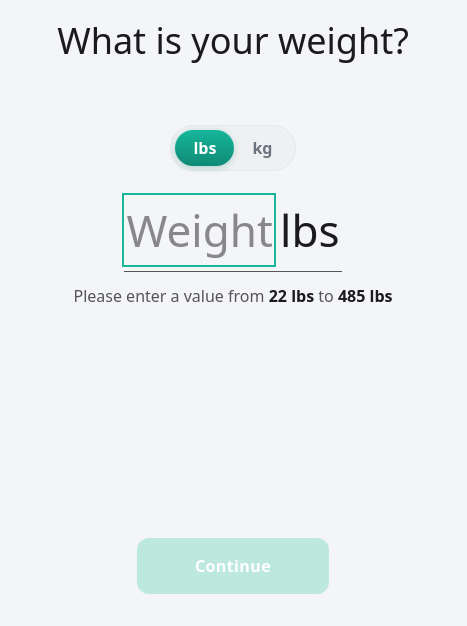
WeightPage — goal step › changes heading to ask for goal weight
This screenshot has width=467, height=626.
In the field named "Your weight in lbs": (199,230) [126,197,272,263], type "200"
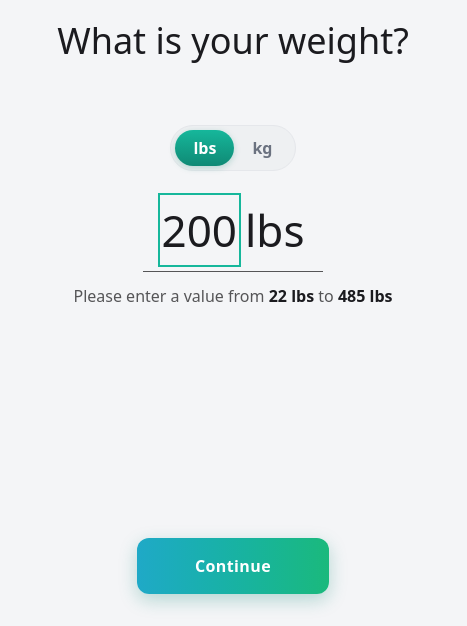
Click the button "Continue": (233,566) [137,538,329,594]
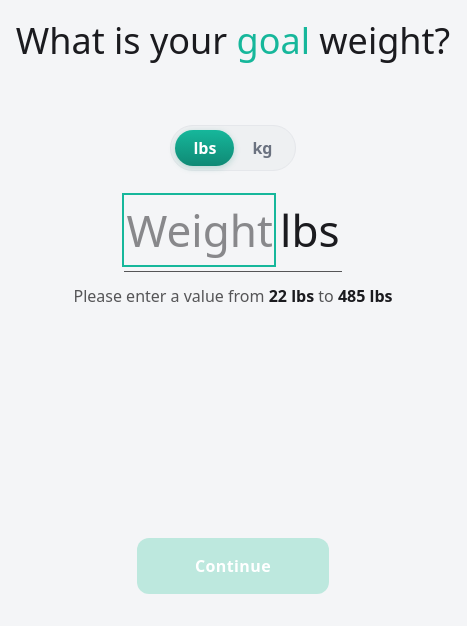
Now the text "goal" is shown, box [237,16,310,65]
Now the field named "Goal weight in lbs" is shown, box [126,197,272,263]
